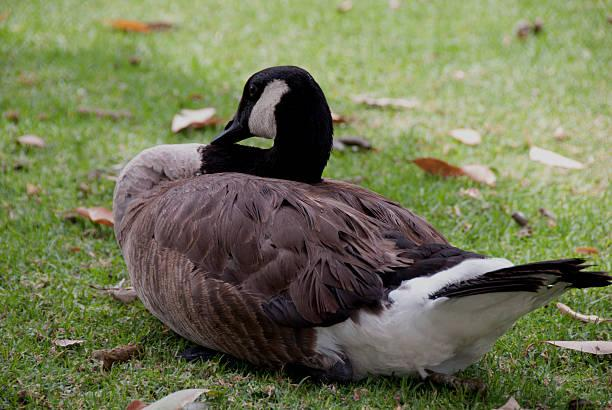Canadian-Goose: (114, 68, 611, 376)
